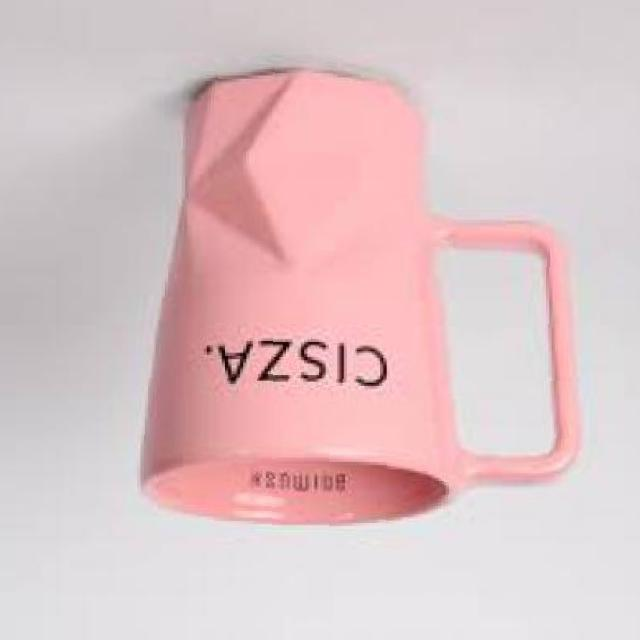cup: (127, 46, 593, 542)
